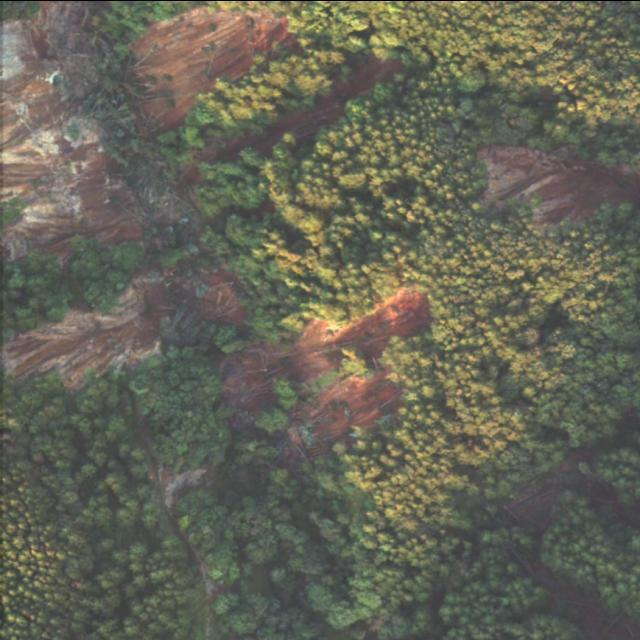landslide: (0, 17, 146, 261), (223, 289, 429, 414), (1, 269, 193, 388), (133, 4, 291, 133), (479, 144, 640, 223), (289, 368, 400, 452), (191, 271, 245, 325)
